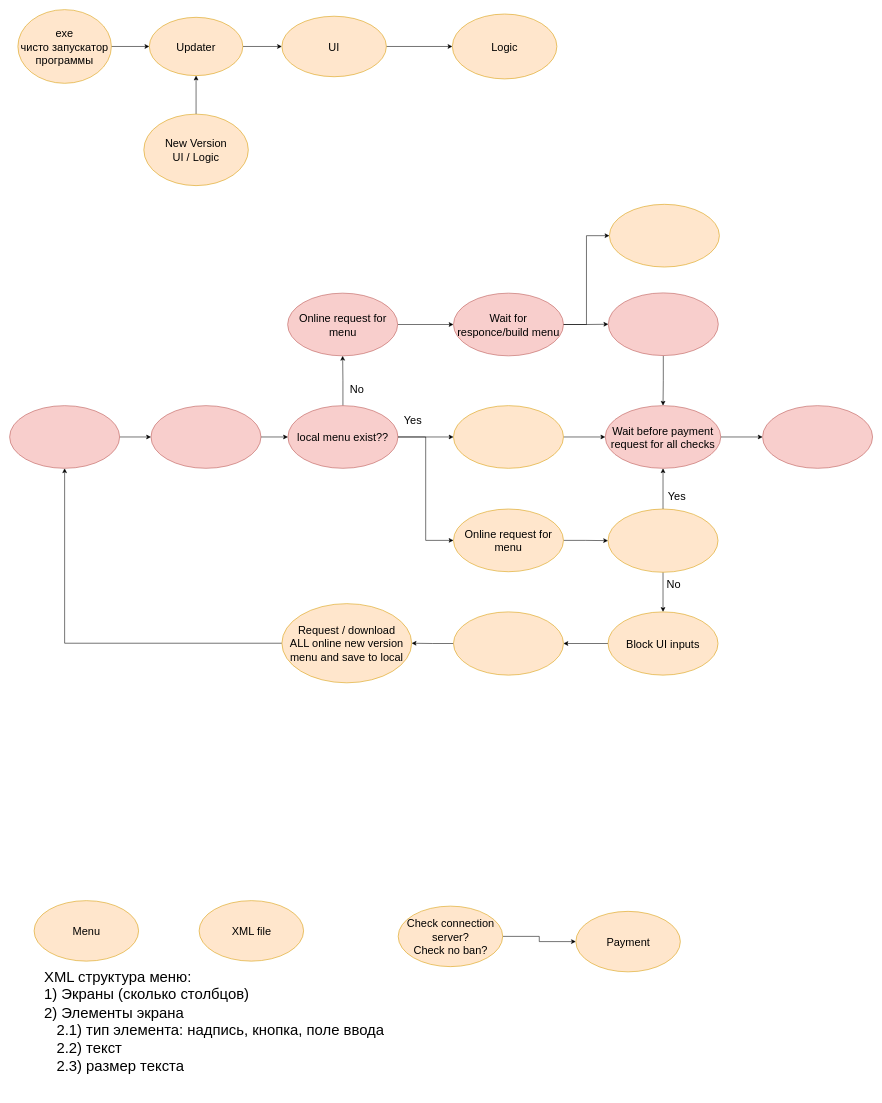
Image size: 882x1103. Some labels were removed from this diagram. Each missing label, with the centre of its shape:
"Check LOCAL and ONLINE menu are equal??" goes at (662,540).
"Menu click -> Open menu request" goes at (205,436).
"Open local saved menu" goes at (508,436).
"Open Menu in UI" goes at (663,324).
"Payment request" goes at (817,436).
"Reload Main Menu" goes at (64,436).
"Save menu to local" goes at (664,235).
"state: only online menu" goes at (508,643).
